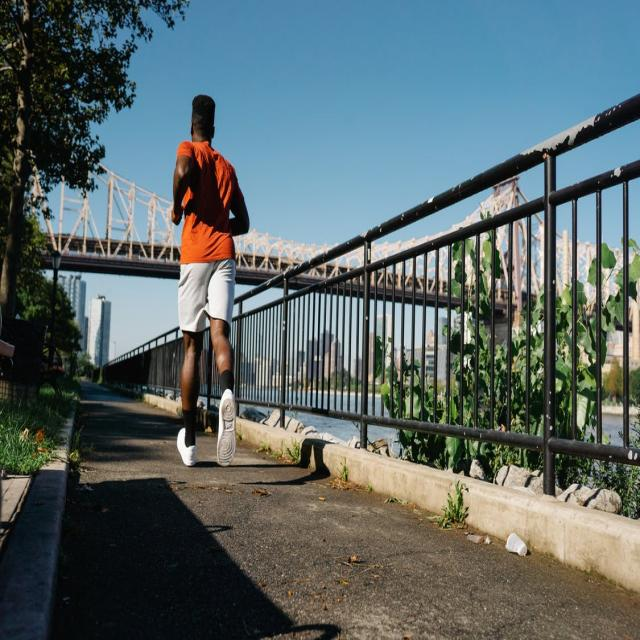running: (168, 91, 252, 469)
